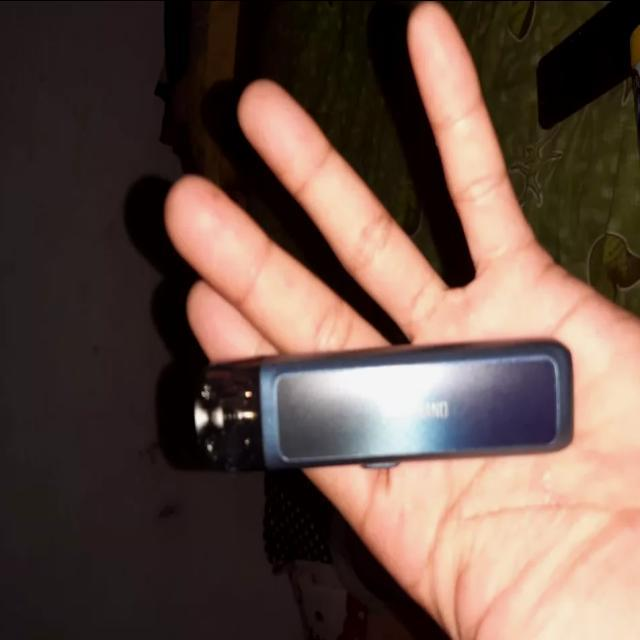Hazard: (190, 340, 572, 474)
